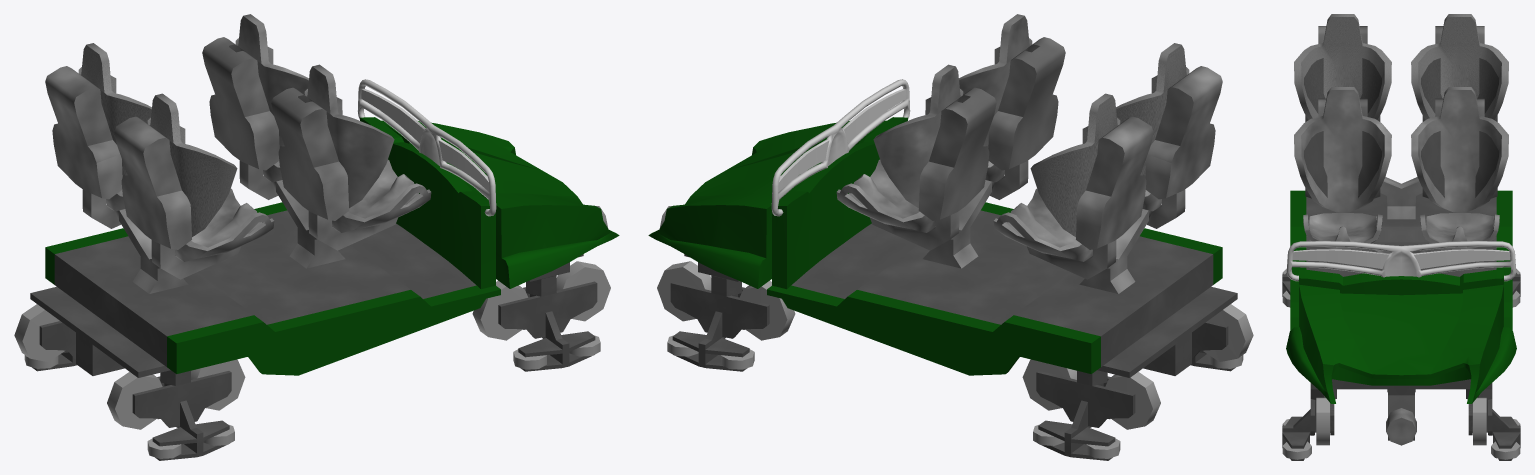
Rendered from front_car.obj.
3 views of the same model, side by side, from view 1: azimuth 30°, elevation 25°; view 2: azimuth 150°, elevation 25°; view 3: azimuth 270°, elevation 25° (orthographic). The views are drawn at different scales.
Size of the model in its own units: 3.57 by 2.11 by 1.63.
